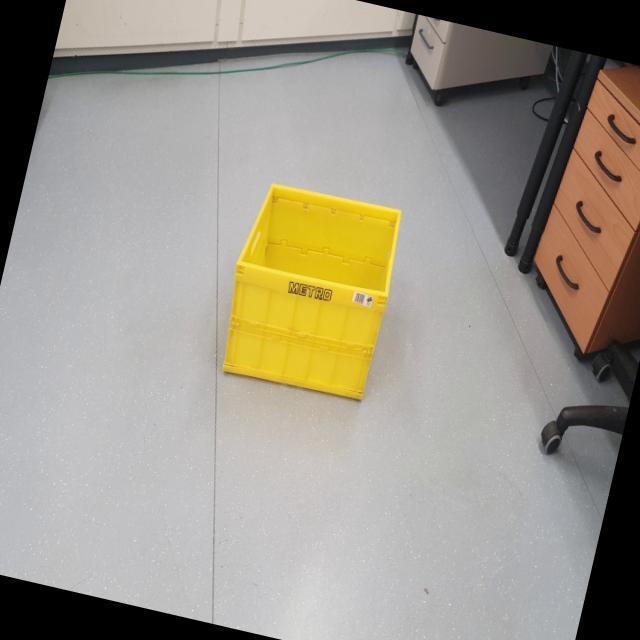box: (200, 158, 418, 421)
